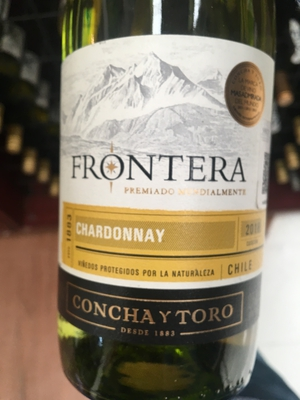frontera chardonnay: (53, 10, 274, 391)
